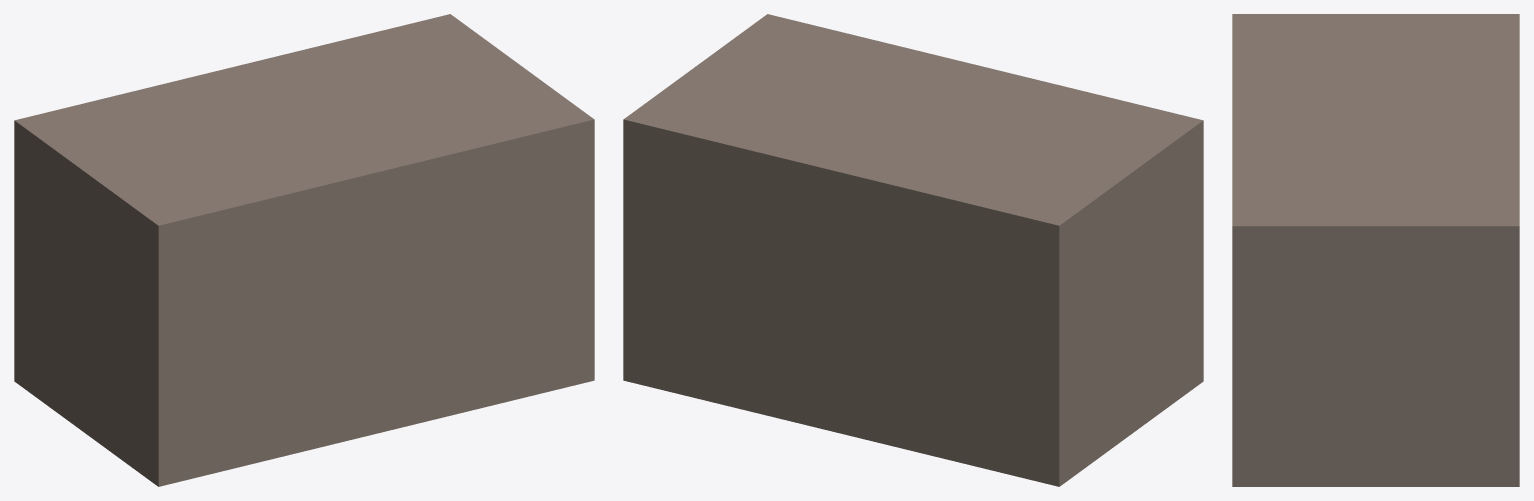
File: Brick_01.glb
The picture shows the model from 3 angles, left to right: view 1: azimuth 30°, elevation 25°; view 2: azimuth 150°, elevation 25°; view 3: azimuth 270°, elevation 25°; orthographic projection.
Visible parts, largest first — view 1: Brick_01; view 2: Brick_01; view 3: Brick_01.
Boxes of the visible parts, left/top/right/bottom form: Brick_01: left=14, top=14, right=594, bottom=486; Brick_01: left=623, top=14, right=1203, bottom=486; Brick_01: left=1232, top=14, right=1519, bottom=486.
Bounding box in the file's own units: 0.383 × 0.2192 × 0.2192.
Materials: 1 (1 with a texture image).
